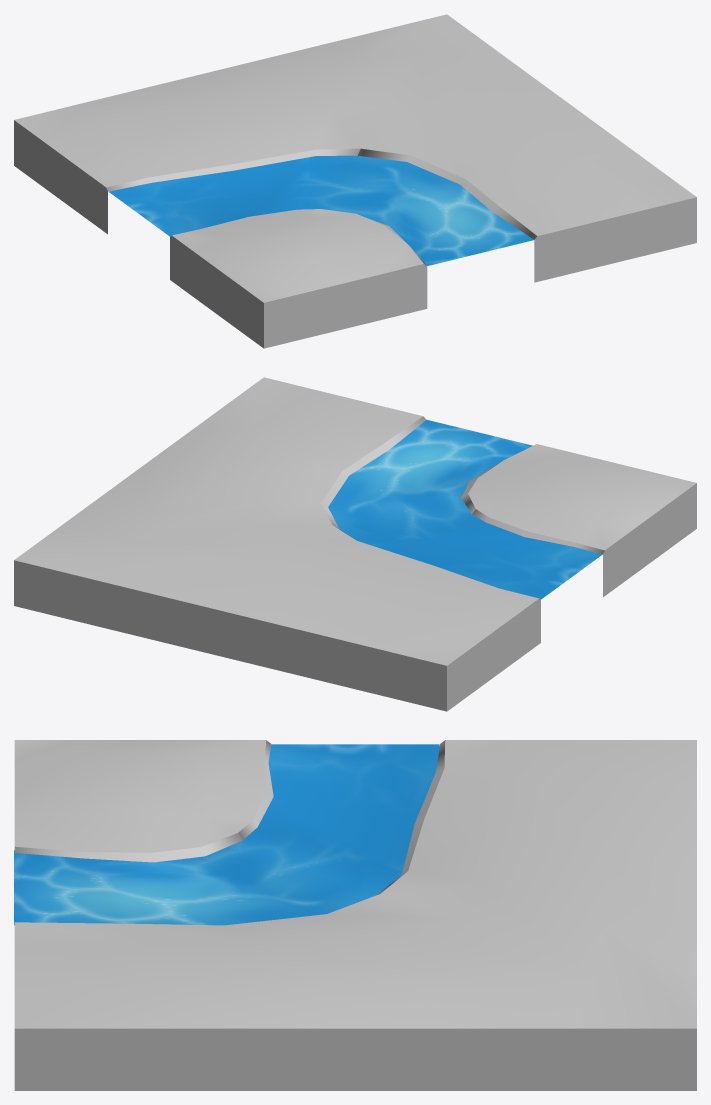
File: river_curved_tile.fbx
The picture shows the model from 3 angles, top to bottom: view 1: azimuth 30°, elevation 25°; view 2: azimuth 150°, elevation 25°; view 3: azimuth 270°, elevation 25°; orthographic projection. The views are drawn at different scales.
Parts seen in each view (by area): view 1: river_curved_tile, river_curved; view 2: river_curved_tile, river_curved; view 3: river_curved_tile, river_curved.
Part boxes in pixels (x1,y1,x2,y2): river_curved_tile: (14,14,696,348); river_curved: (109,155,536,266); river_curved_tile: (14,377,696,711); river_curved: (328,420,601,599); river_curved_tile: (14,740,696,1090); river_curved: (14,744,439,925).
Size of the model in its own units: 1249 by 152 by 1249.
